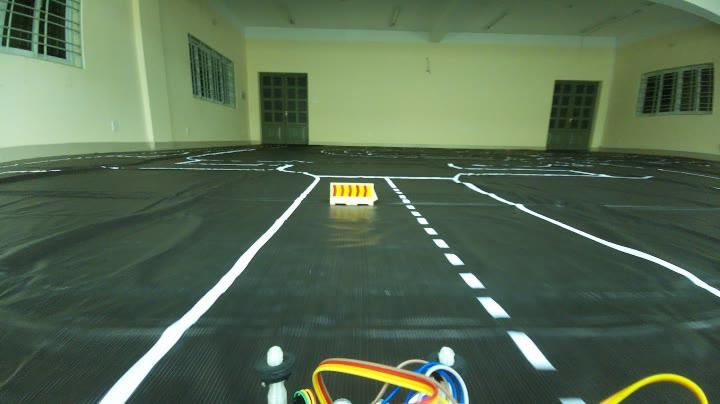roadblock: (326, 180, 384, 218)
